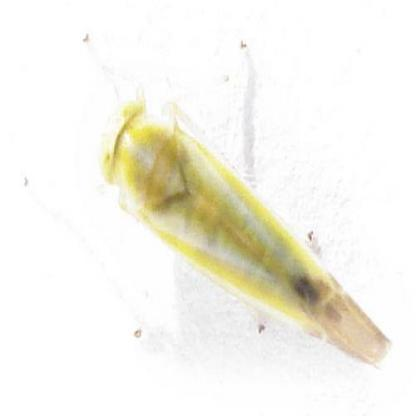green-leafhopper: (98, 94, 399, 376)
